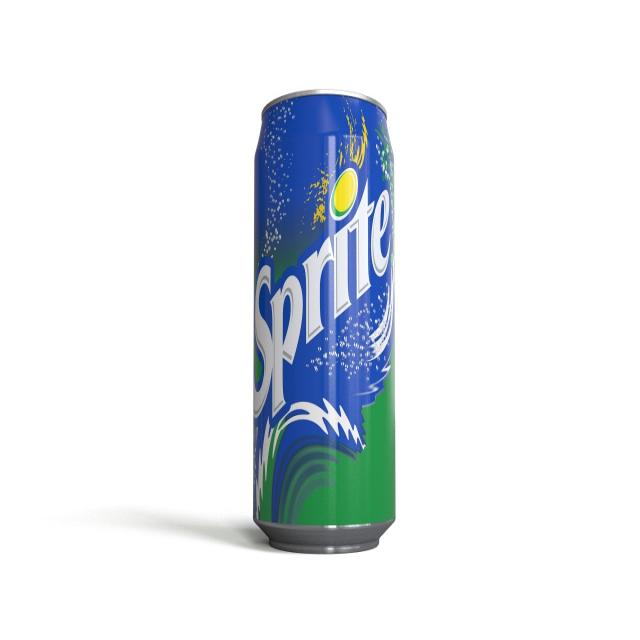sprite: (246, 102, 406, 557)
